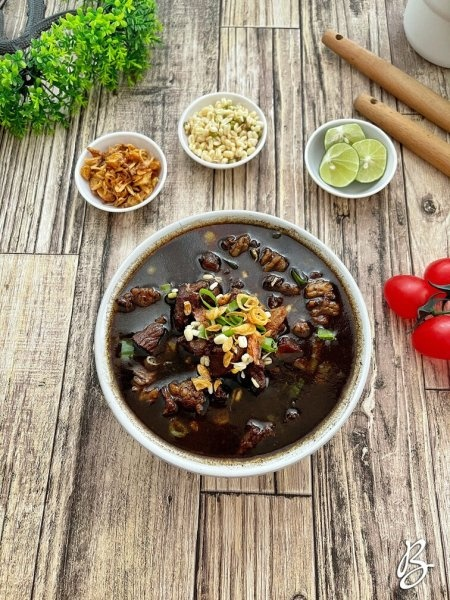rawon: (92, 217, 378, 471)
